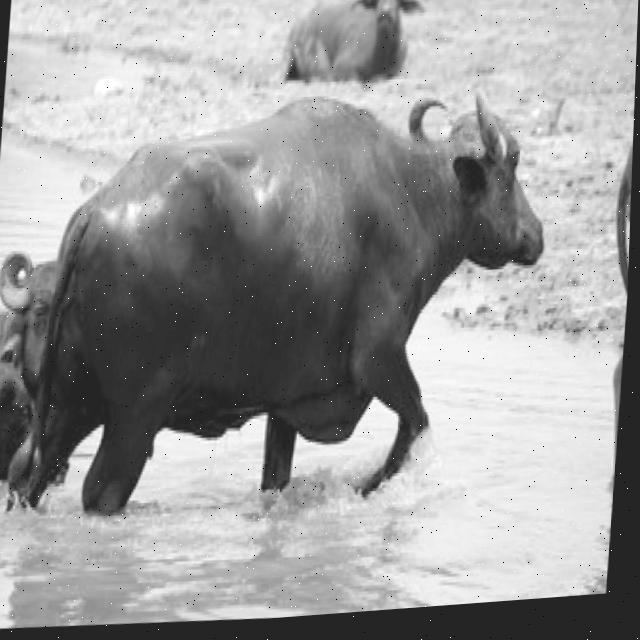Buffalo: (21, 54, 564, 524)
